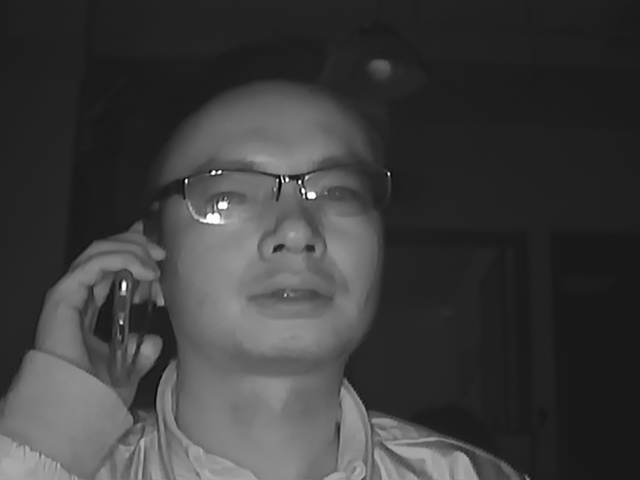hand: (36, 226, 169, 391)
